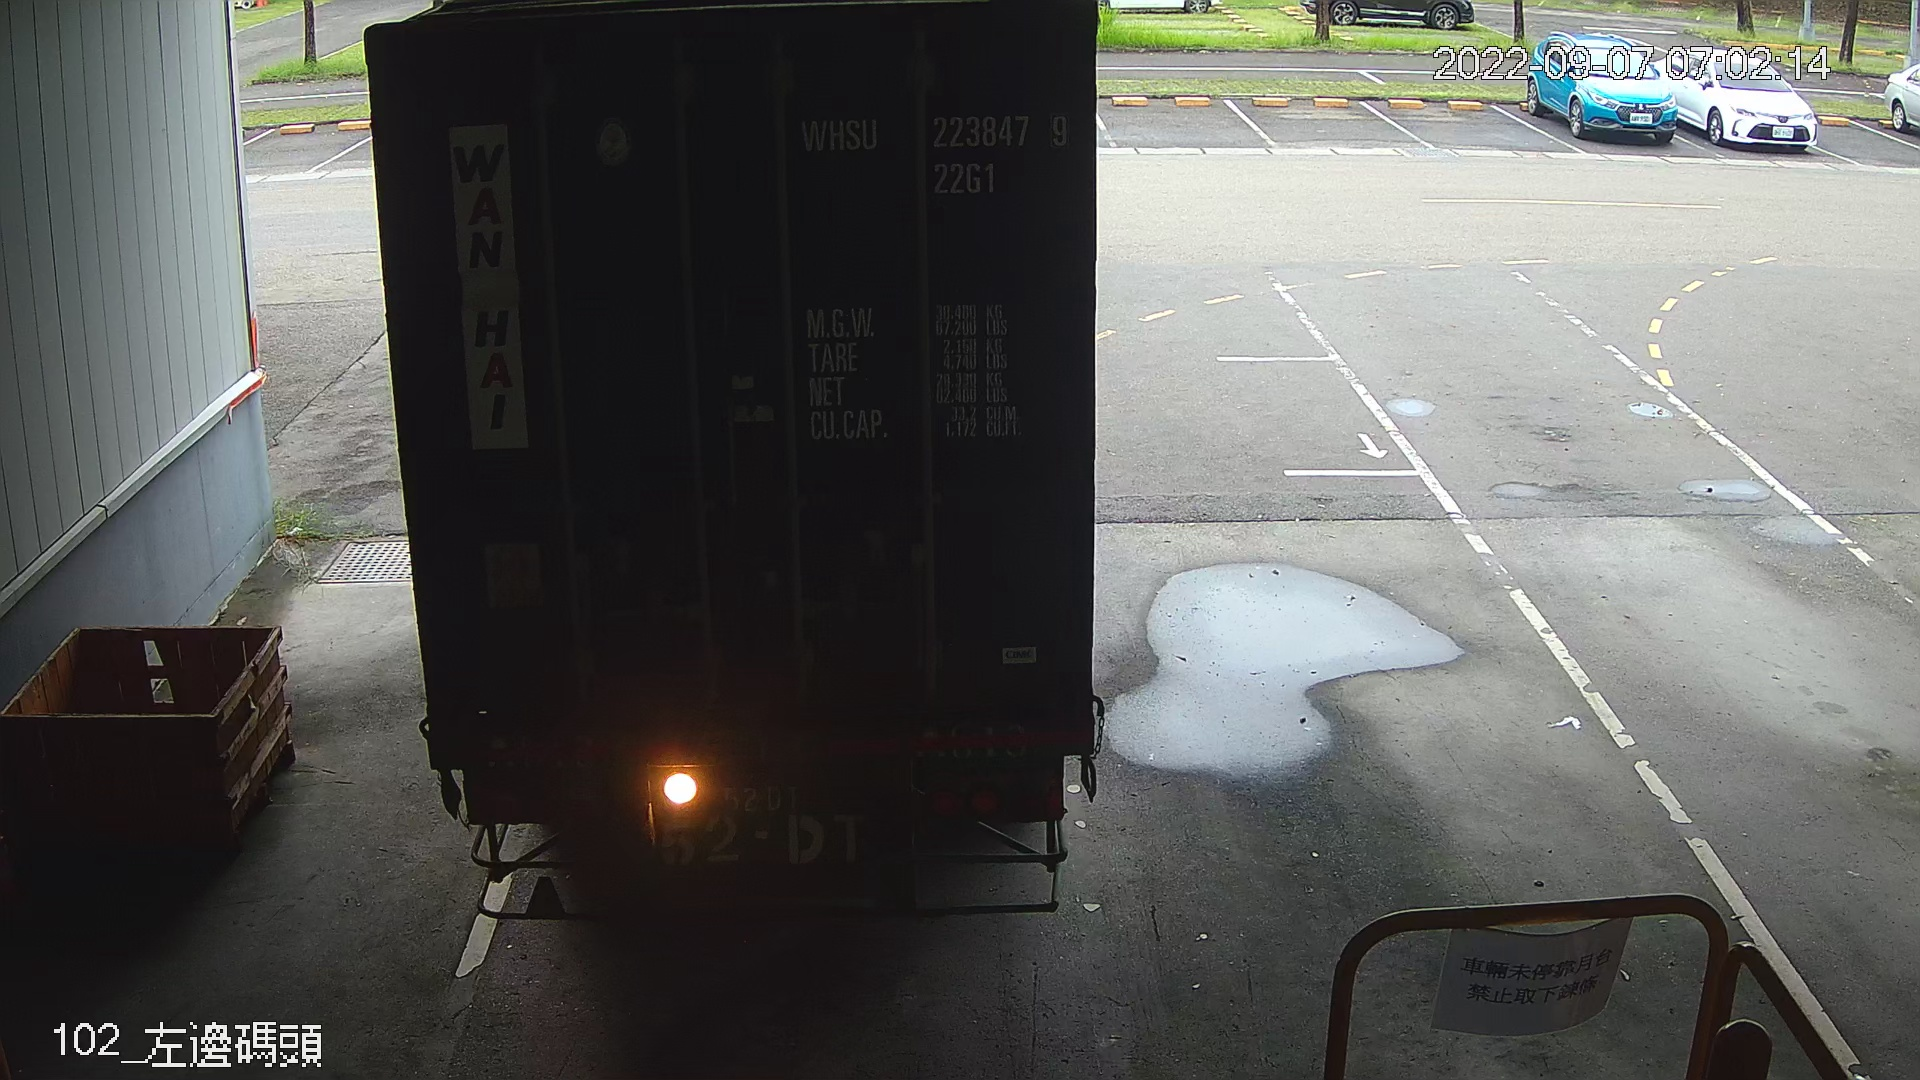container: (793, 99, 1079, 204)
